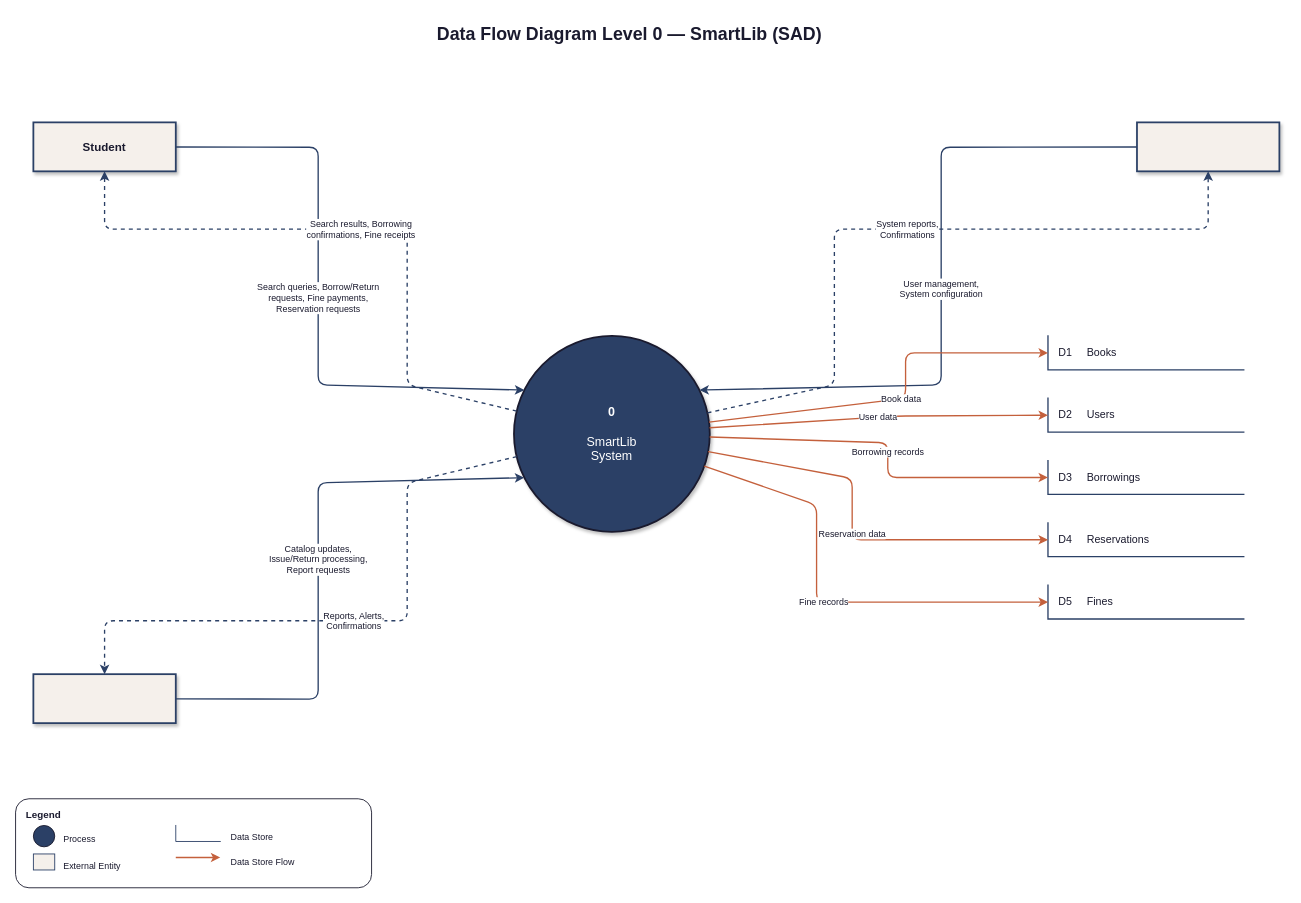
The diagram is 1301 pixels wide and 903 high, and some of its shapes have lost their labels. Here are the shapes that lost their labels. From the top down, the centre of each, then its label:
At pixel 1208 147: "Admin".
At pixel 105 699: "Librarian".
